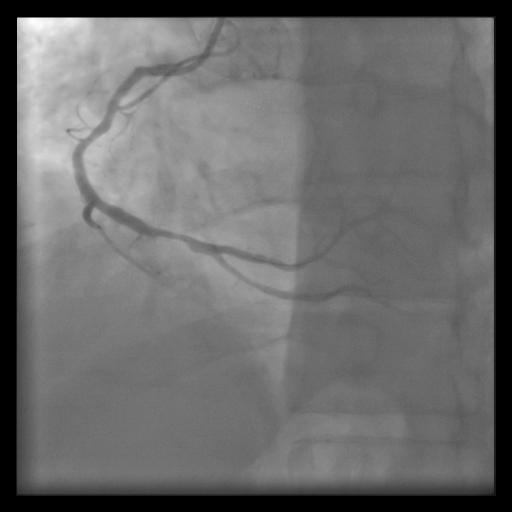Stenosis: (152, 219, 199, 259)
